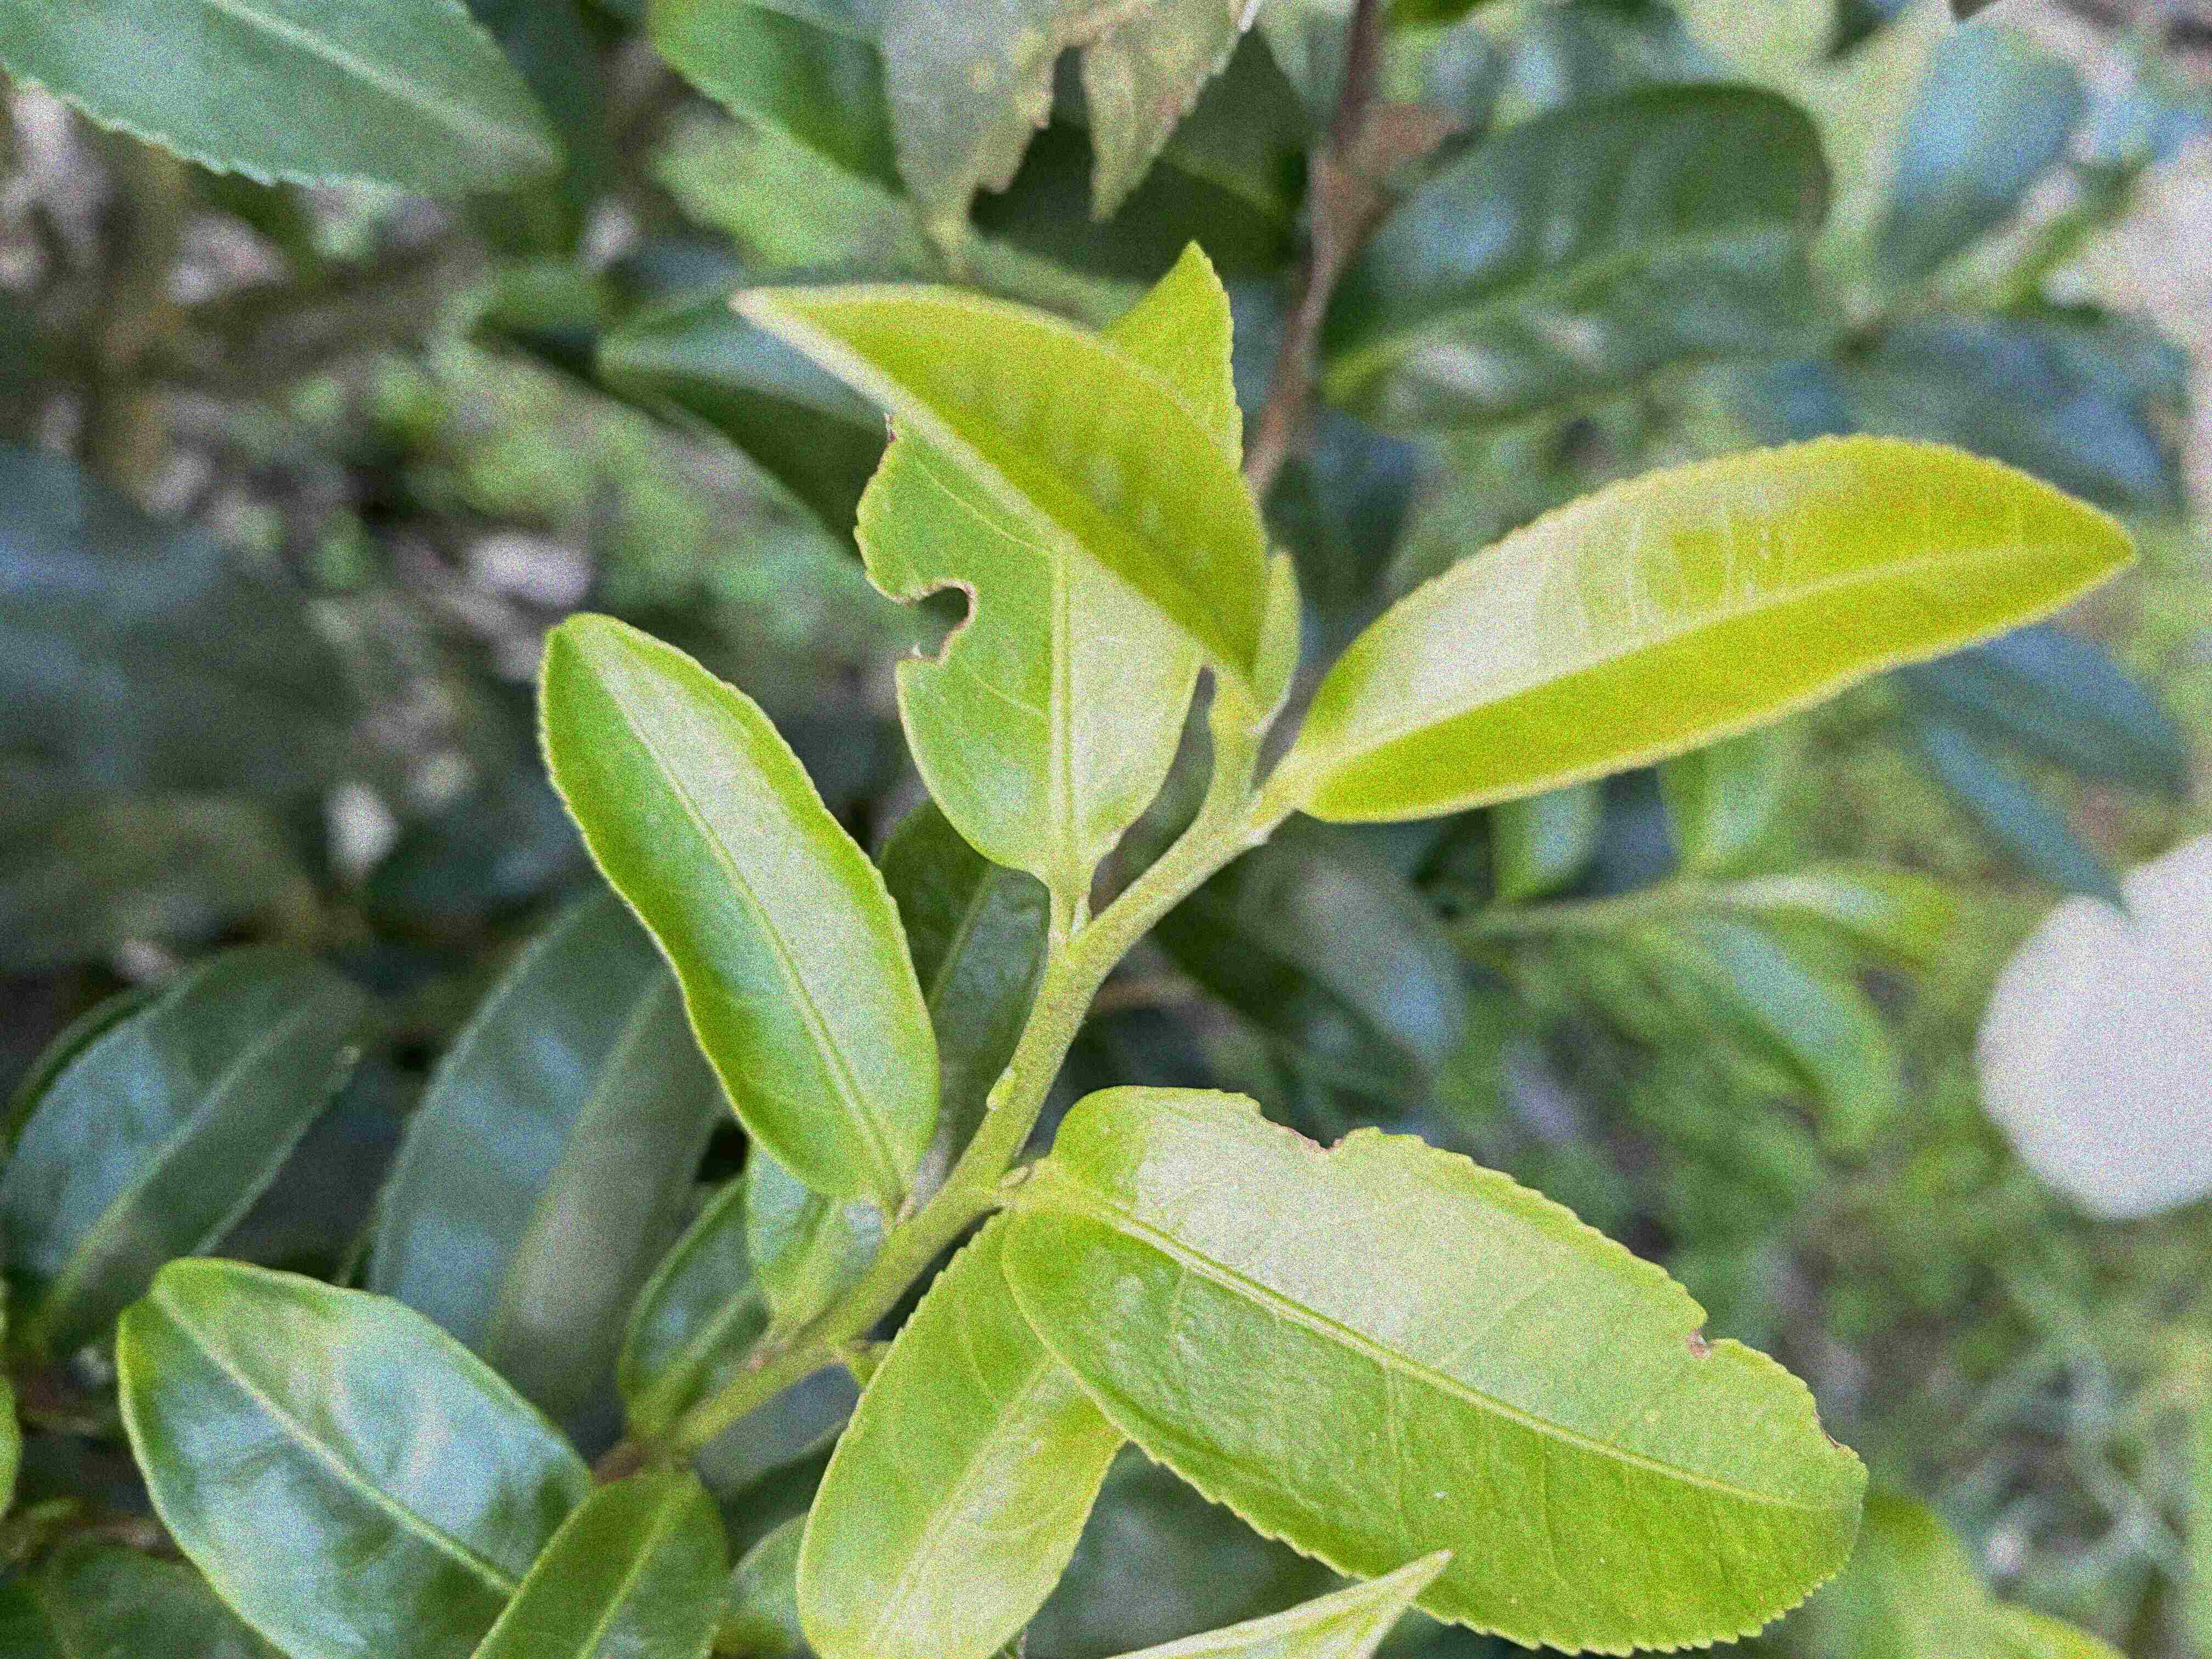chihuo_high: (1000, 1086, 1871, 1654)
chihuo_low: (853, 240, 1249, 875)
healthy: (1284, 427, 2141, 823), (533, 606, 942, 1199), (732, 282, 1271, 706)
